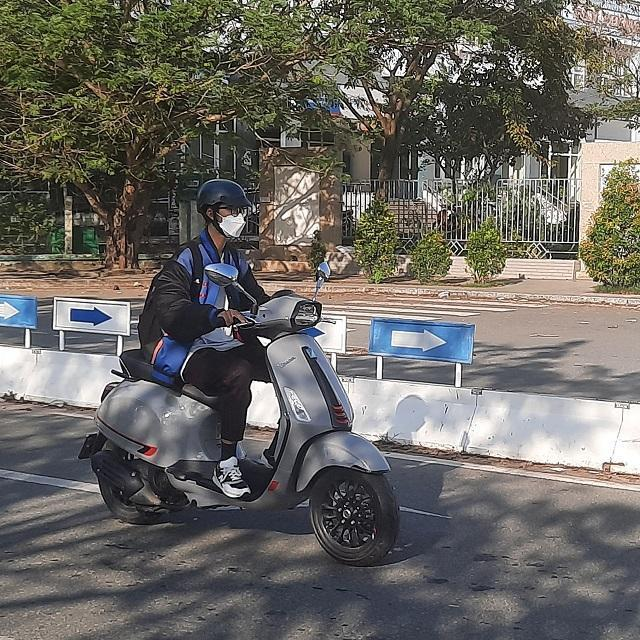Helmet: (191, 176, 249, 238)
